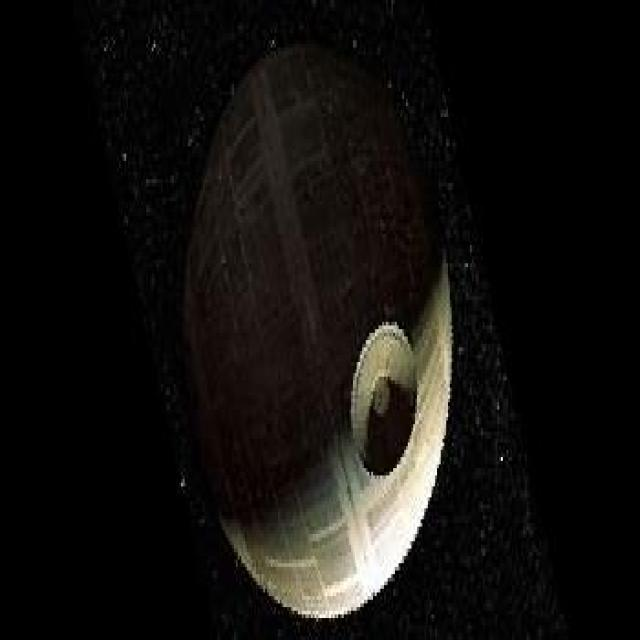Death Star: (176, 33, 457, 622)
